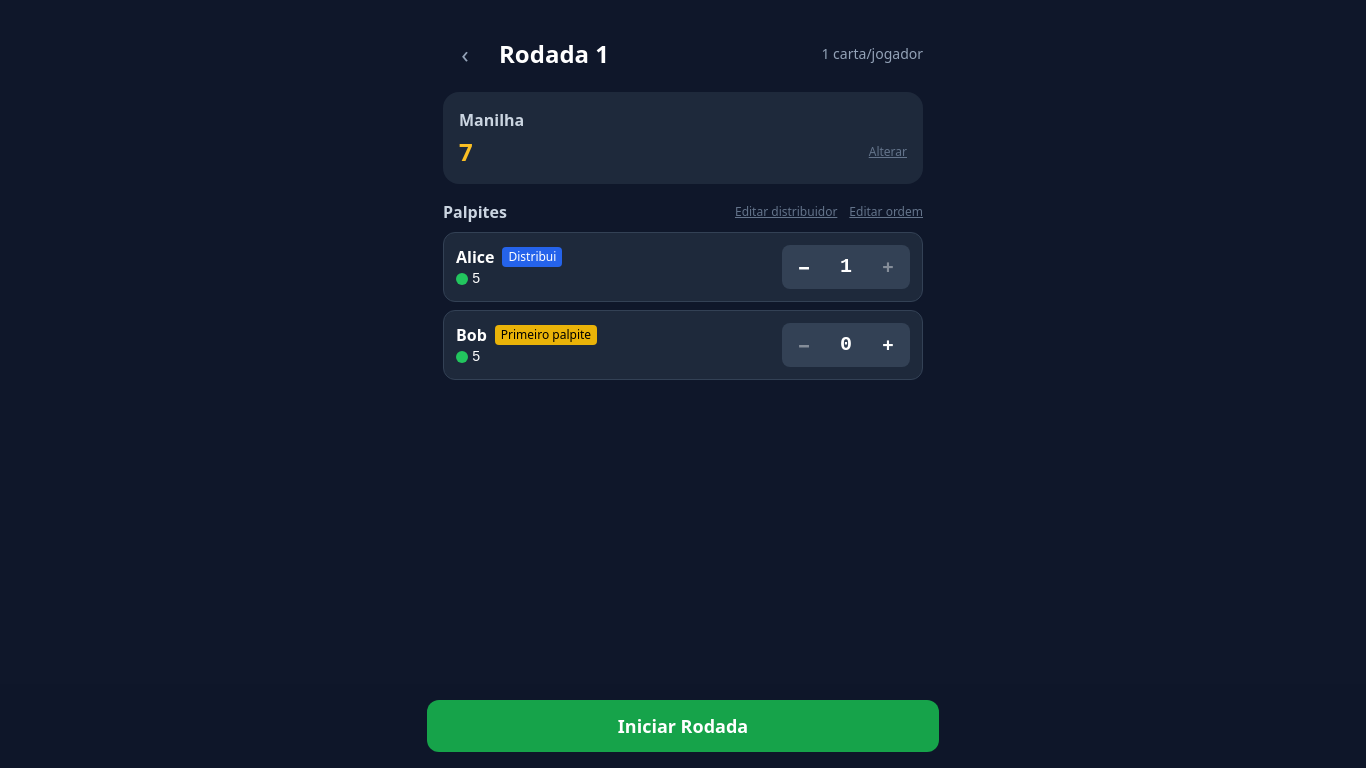
BidPhase — edit order button › cancelling PlayerOrderModal closes it without changing order
Click the button "Editar ordem" at (886, 212), box [849,204,923,220]
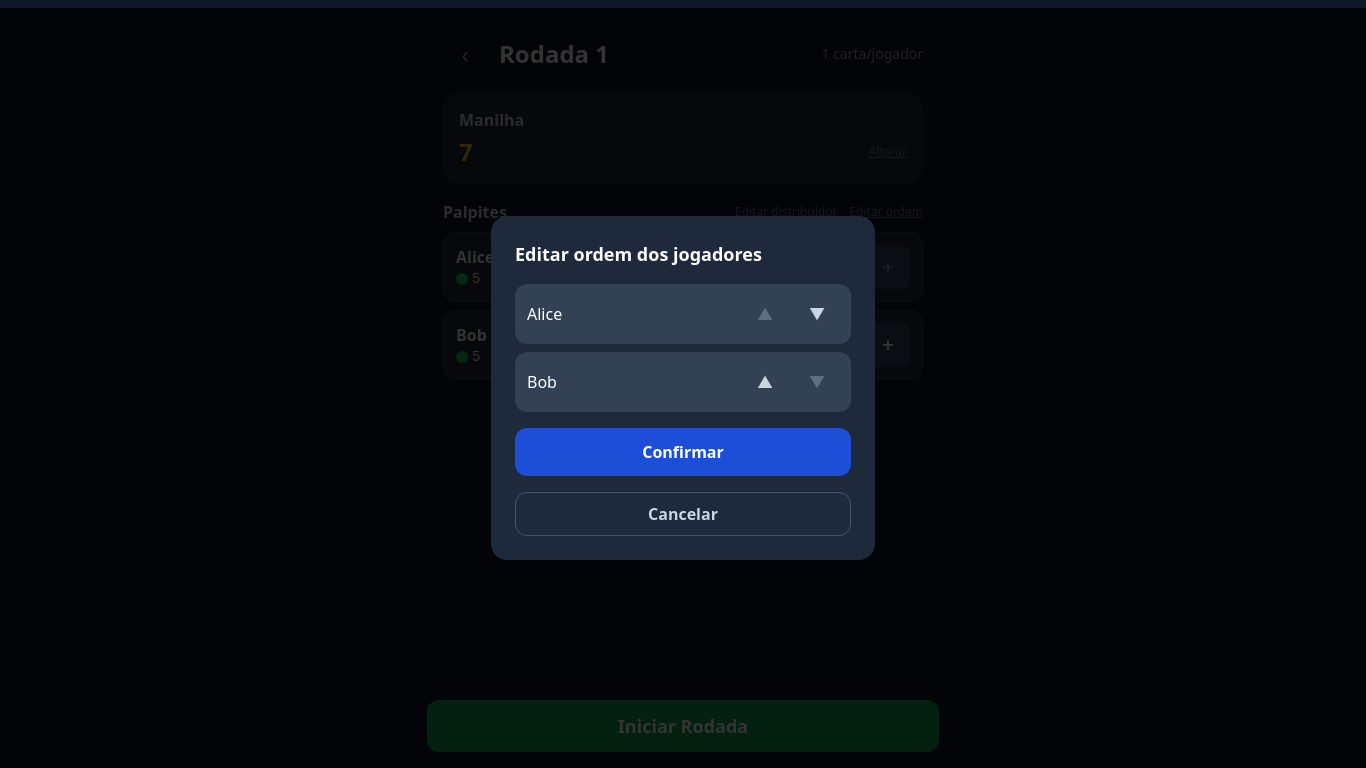
expect the heading "Editar ordem dos jogadores" is shown: met, box [515,242,762,266]
Click the button "Cancelar" at (683, 514), box [515,492,851,536]
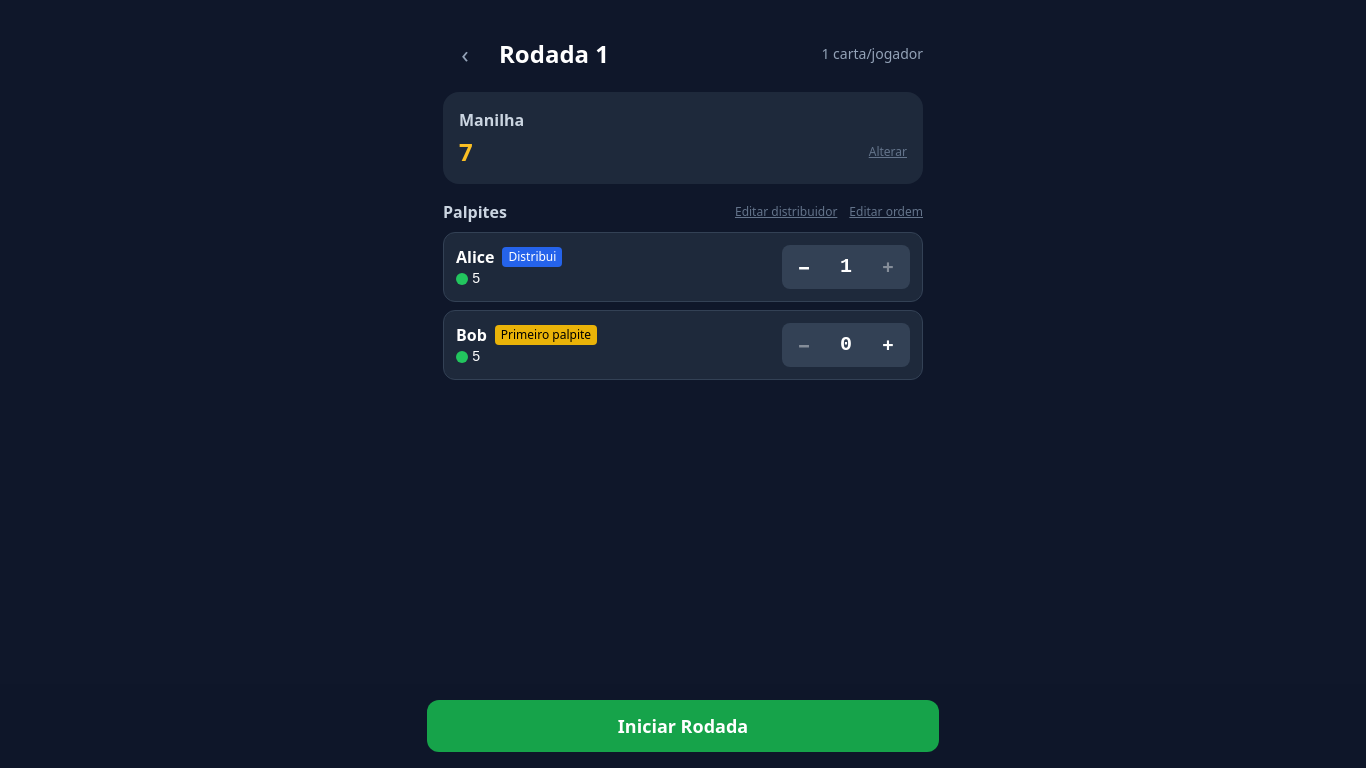
expect the heading "Editar ordem dos jogadores" is gone: met
